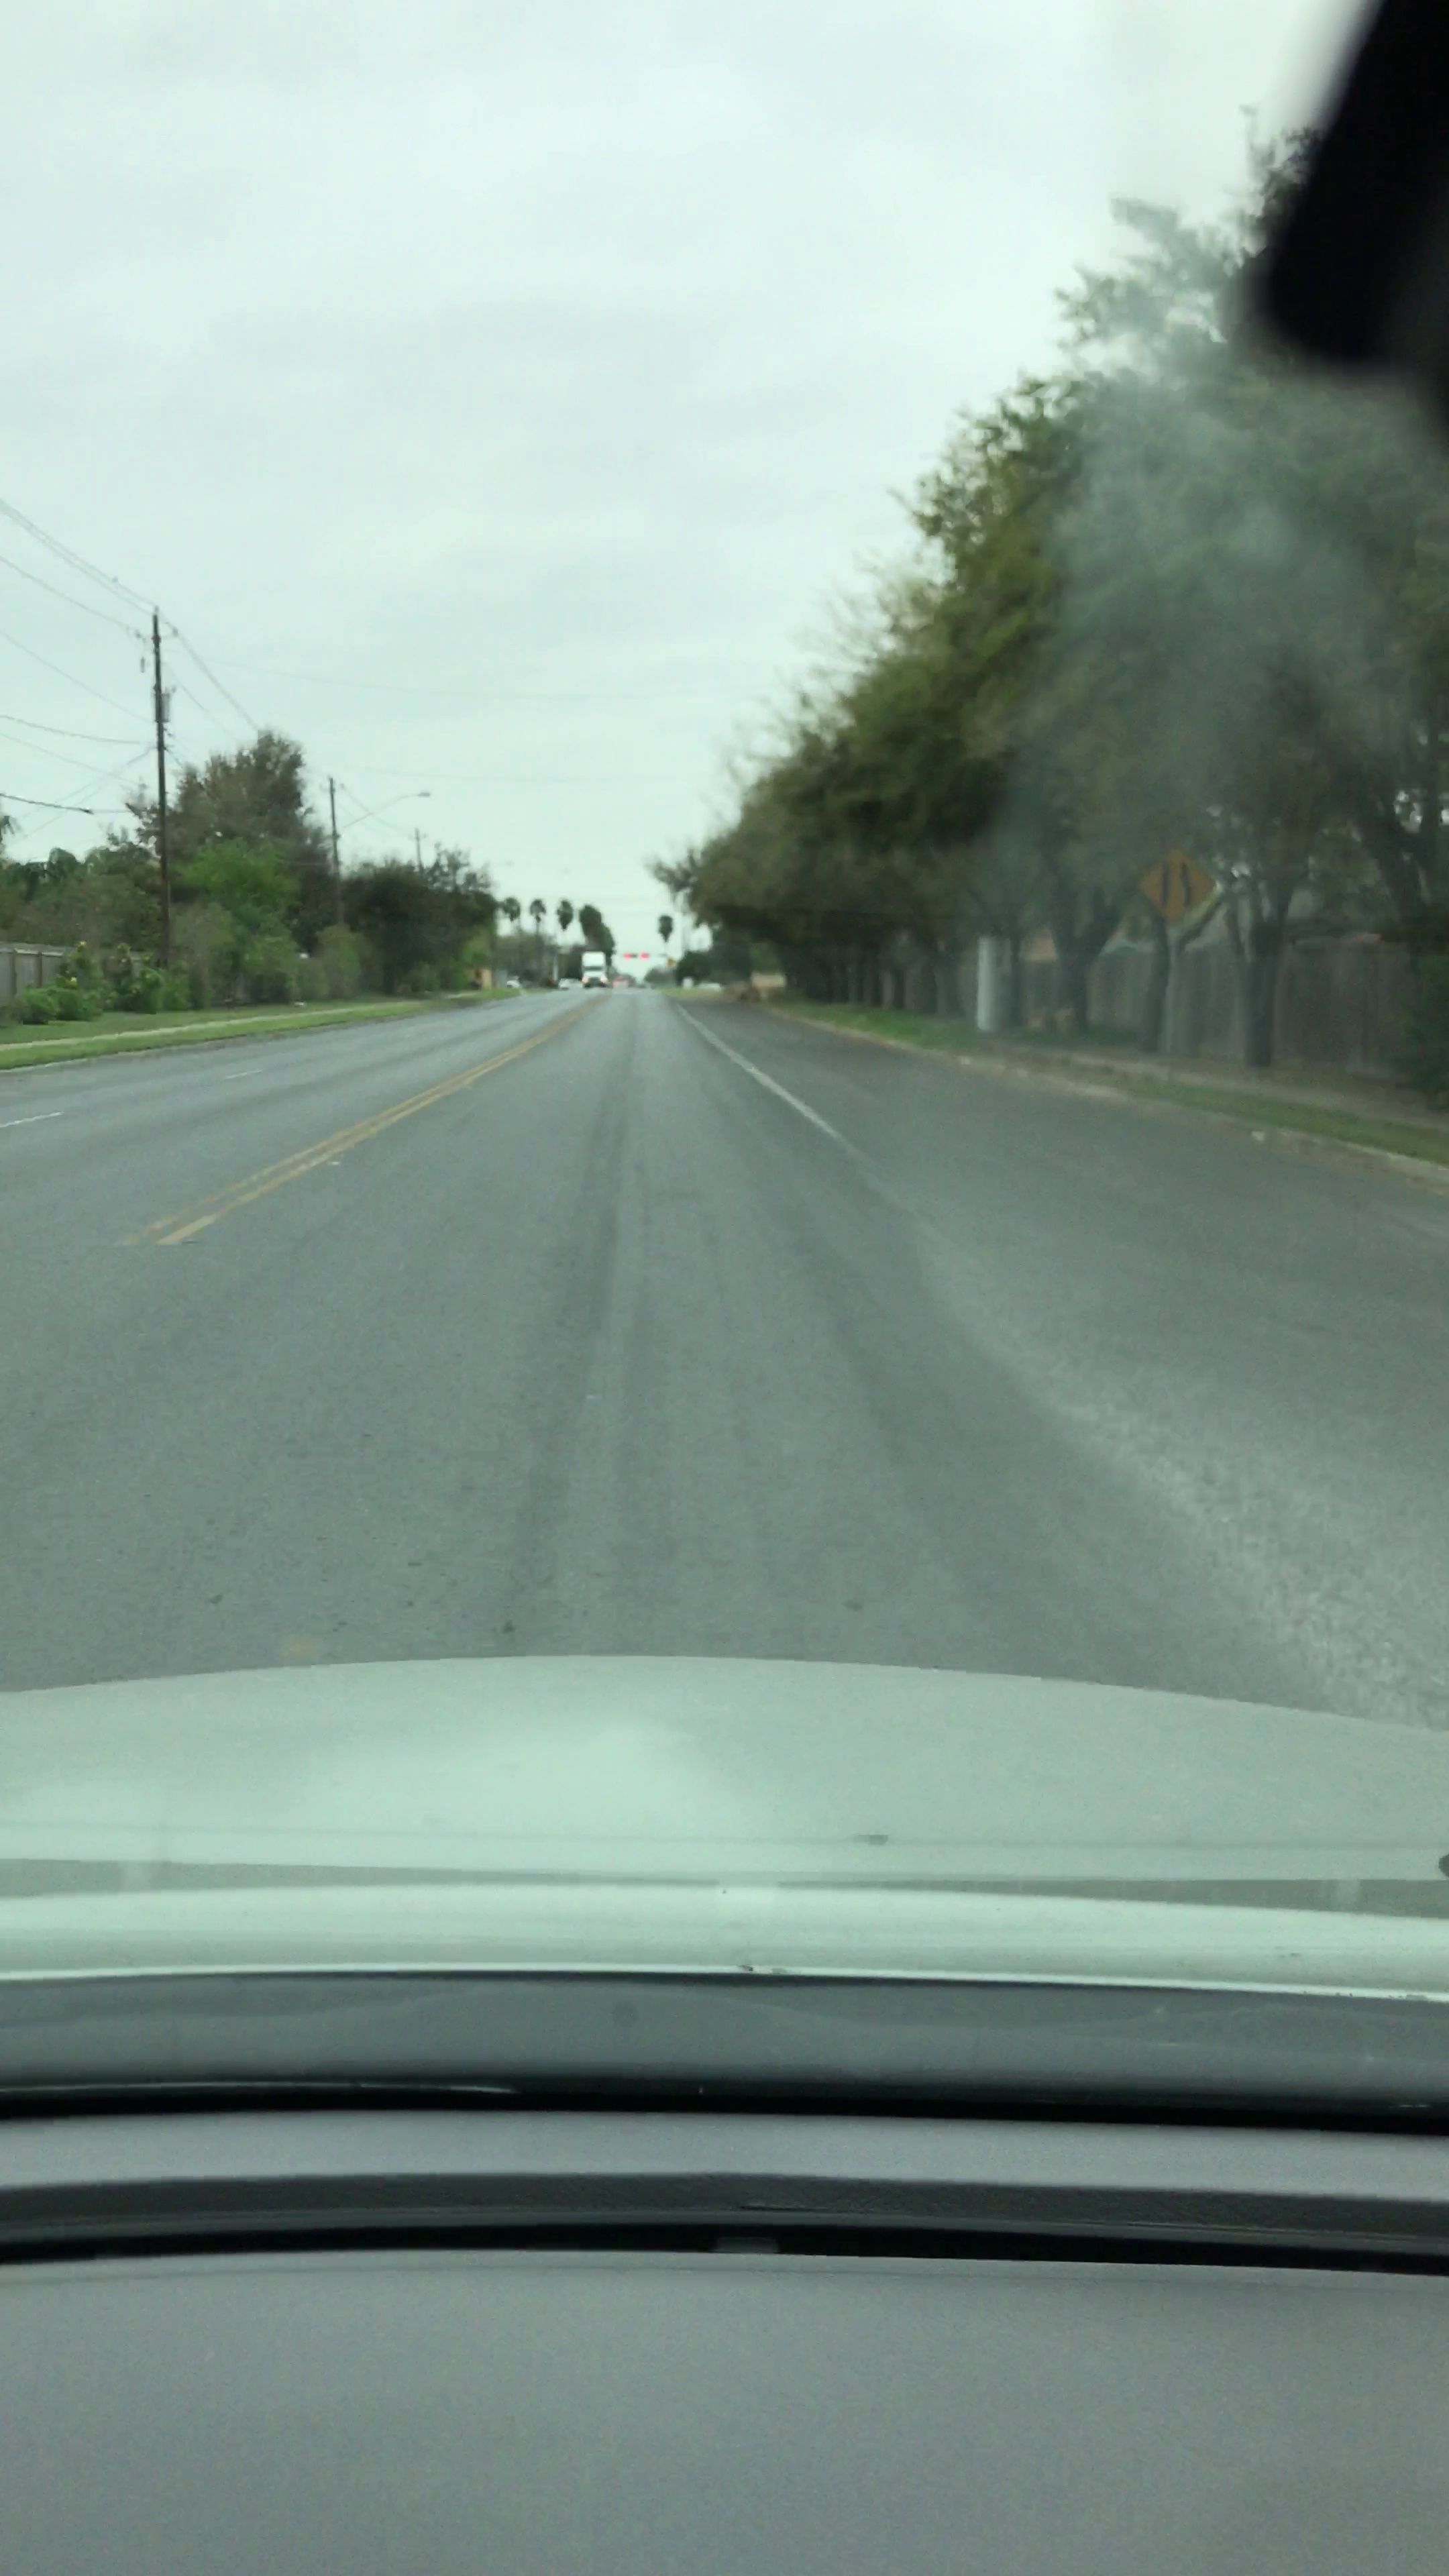blurredLine: (136, 1108, 364, 1253)
